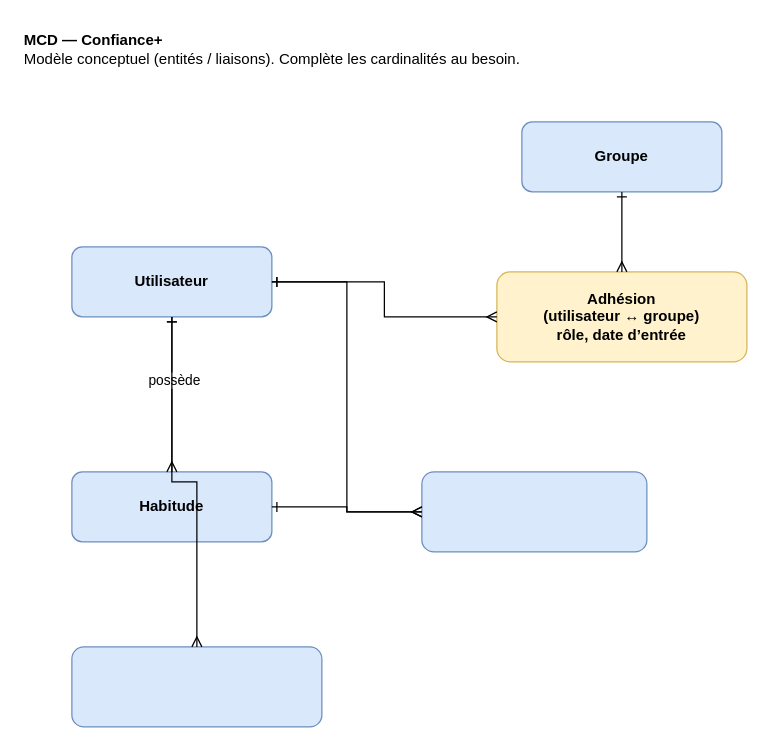
Image size: 769x749. Some labels were removed from this diagram. Here are the shapes that lost their labels. From the top down, the centre of each, then its label:
pixel 534 511: Journal habitude (coche du jour)
pixel 196 686: Journal du jour (humeur, sommeil, texte)
